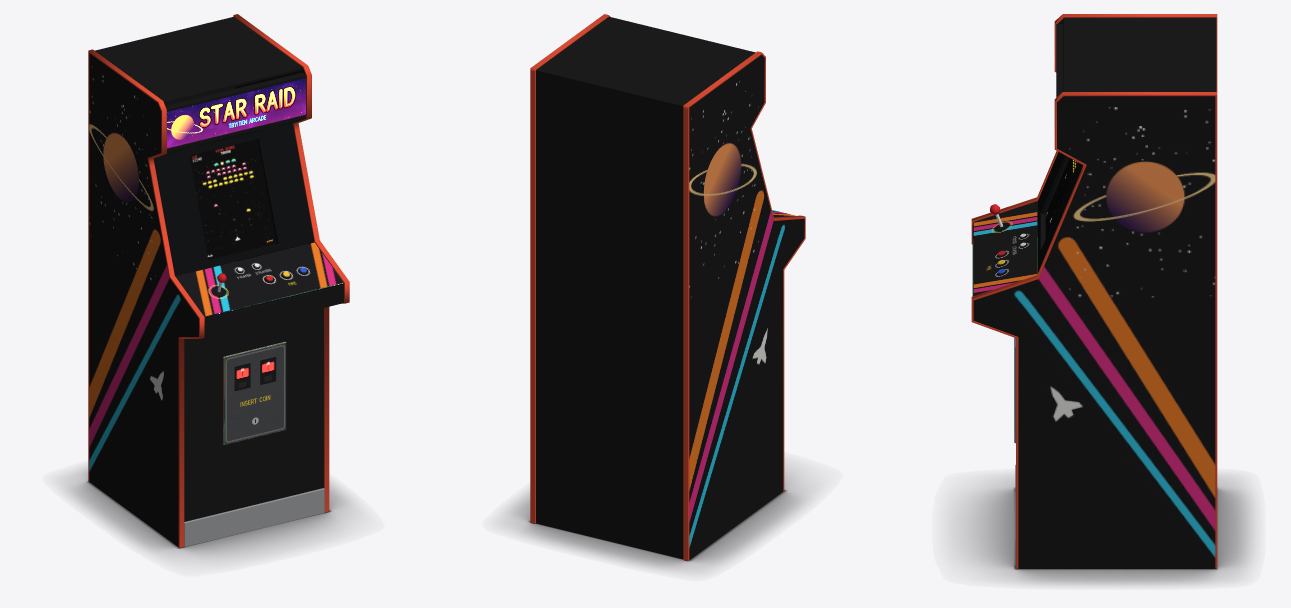
File: arcade_cabinet.glb
3 views of the same model, side by side, from view 1: azimuth 30°, elevation 25°; view 2: azimuth 150°, elevation 25°; view 3: azimuth 270°, elevation 25° (orthographic). The views are drawn at different scales.
Visible parts, largest first — view 1: arcade_cabinet_LOD0, arcade_cabinet_Shadow; view 2: arcade_cabinet_LOD0, arcade_cabinet_Shadow; view 3: arcade_cabinet_LOD0, arcade_cabinet_Shadow.
Boxes of the visible parts, x1=… form: arcade_cabinet_LOD0: x1=88, y1=14, x2=349, y2=547; arcade_cabinet_Shadow: x1=65, y1=468, x2=351, y2=559; arcade_cabinet_LOD0: x1=530, y1=14, x2=805, y2=561; arcade_cabinet_Shadow: x1=506, y1=468, x2=808, y2=570; arcade_cabinet_LOD0: x1=971, y1=14, x2=1217, y2=568; arcade_cabinet_Shadow: x1=957, y1=477, x2=1252, y2=584.
Size of what is drawn, in the model's own units: 1.04 by 1.76 by 1.23.
2 materials, 2 textured.
